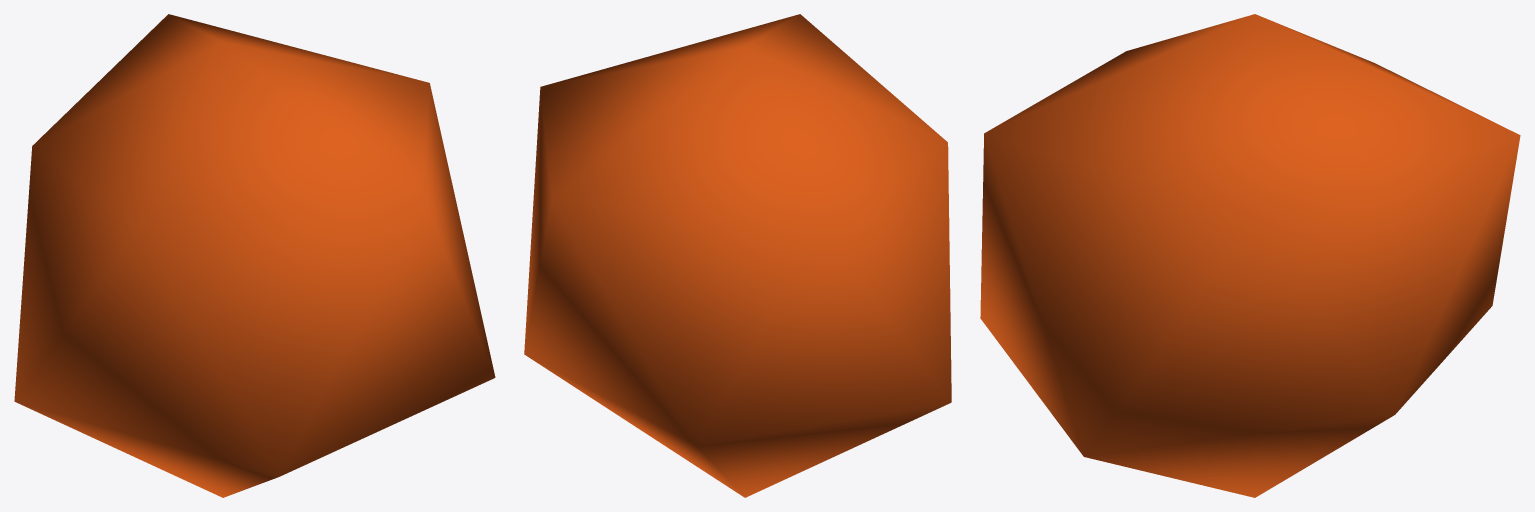
File: magma_stone.glb
3 views of the same model, side by side, from view 1: azimuth 30°, elevation 25°; view 2: azimuth 150°, elevation 25°; view 3: azimuth 270°, elevation 25° (orthographic). The views are drawn at different scales.
Visible parts, largest first — view 1: magma_stone_v0; view 2: magma_stone_v0; view 3: magma_stone_v0.
Part boxes in pixels (x1=…): magma_stone_v0: x1=14, y1=14, x2=495, y2=497; magma_stone_v0: x1=524, y1=14, x2=951, y2=497; magma_stone_v0: x1=980, y1=14, x2=1520, y2=497.
Size of the model in its own units: 0.1854 by 0.1942 by 0.1964.
